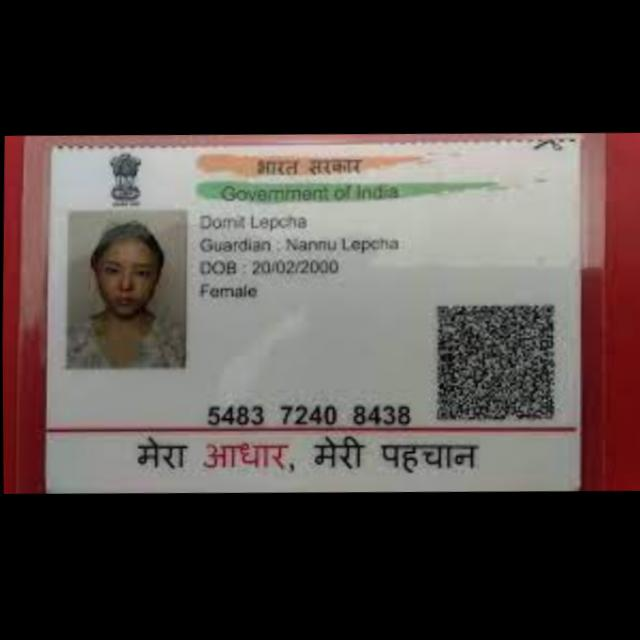aadhaar: (31, 126, 594, 503)
